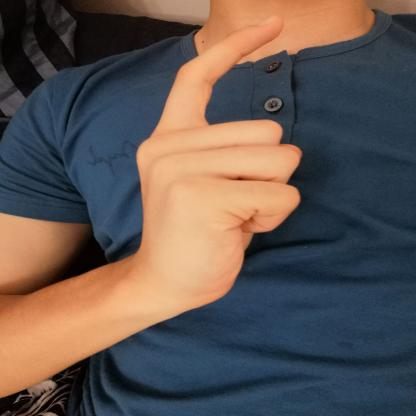RAA: (127, 8, 313, 308)
